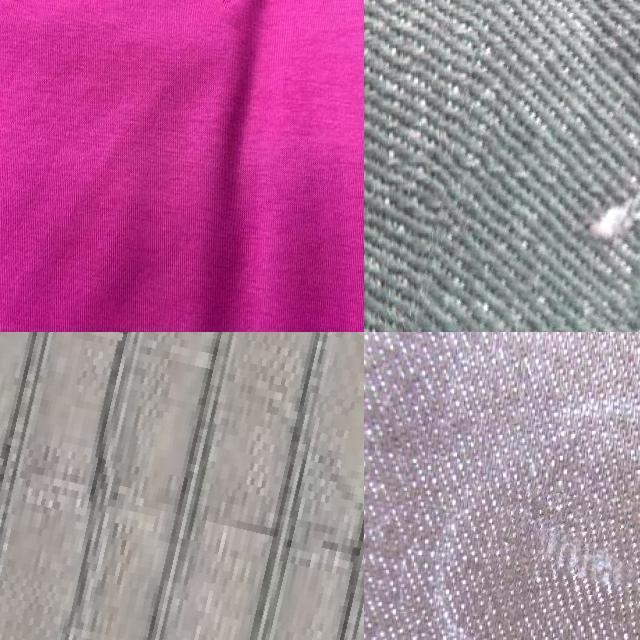Thread_out: (0, 332, 364, 640)
other: (203, 0, 251, 25)
stains: (411, 0, 640, 332), (485, 490, 640, 622)
